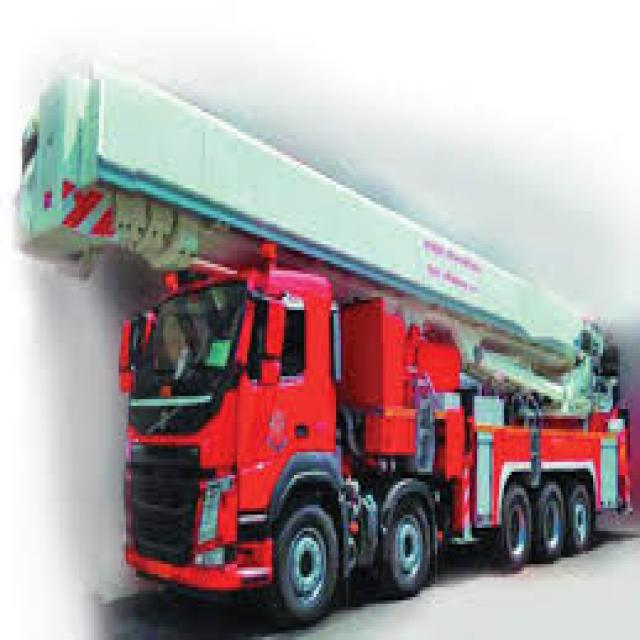Fire_brigade: (0, 23, 640, 630)
